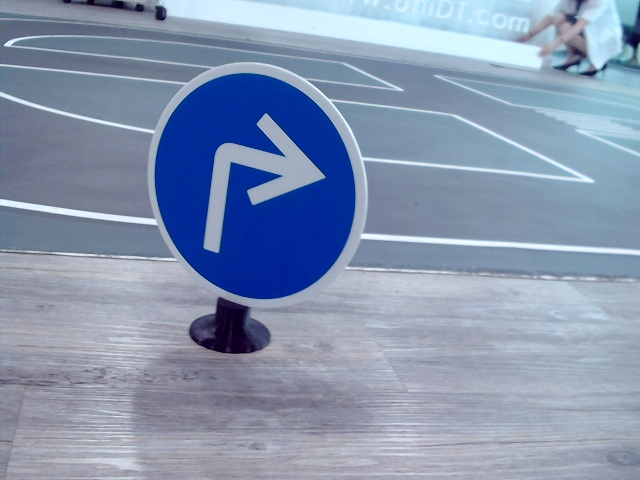turn_right: (194, 99, 317, 253)
